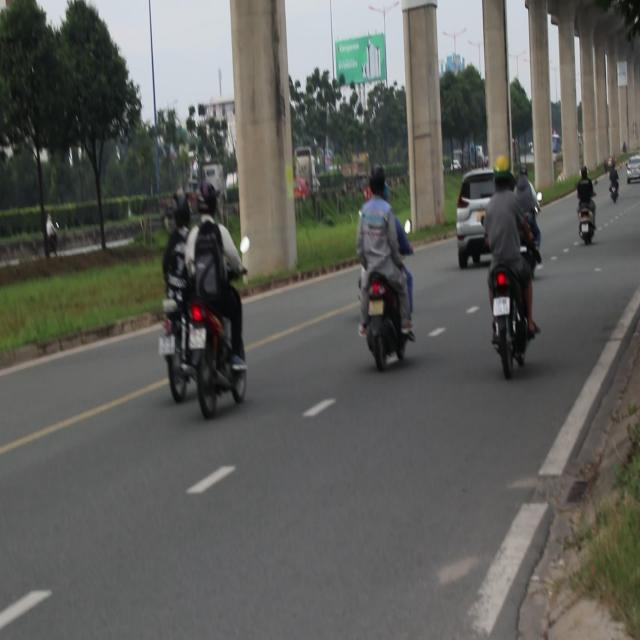car: (453, 167, 542, 270), (624, 156, 638, 183)
motorbike: (186, 300, 257, 427), (481, 274, 538, 380), (158, 291, 206, 410), (359, 273, 408, 369), (570, 195, 606, 248), (608, 176, 624, 206)
